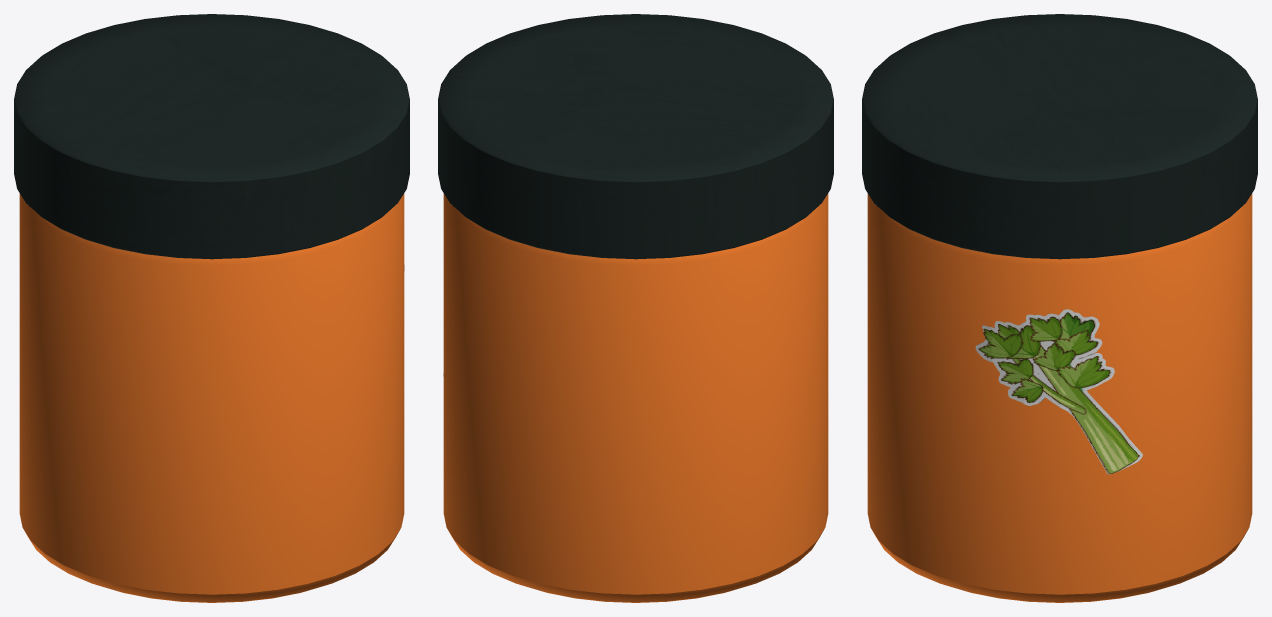
Rendered from JarOfDill.fbx.
3 renders of one model, left to right at view 1: azimuth 30°, elevation 25°; view 2: azimuth 150°, elevation 25°; view 3: azimuth 270°, elevation 25°, orthographic.
Parts seen in each view (by area): view 1: Jar.001; view 2: Jar.001; view 3: Jar.001, Plane.
Part boxes in pixels (x1,y1,x2,y2): Jar.001: (14, 14, 409, 602); Jar.001: (438, 14, 833, 602); Jar.001: (862, 14, 1257, 602); Plane: (975, 309, 1142, 474).
Bounding box in the file's own units: 13.58 × 16.33 × 13.58.
